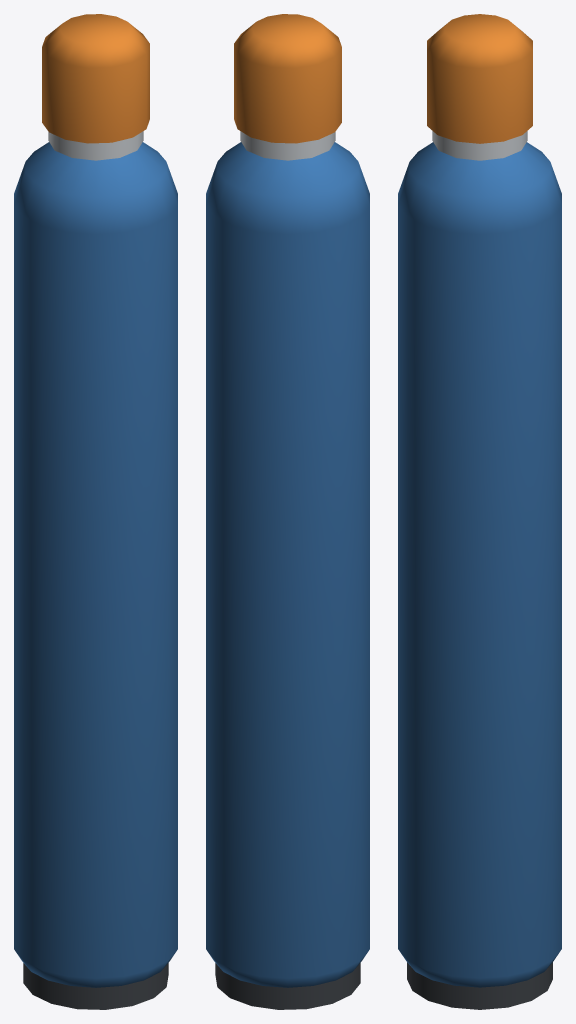
The model's file is SM_GasCylinder_01.glb.
3 views of the same model, side by side, from view 1: azimuth 30°, elevation 25°; view 2: azimuth 150°, elevation 25°; view 3: azimuth 270°, elevation 25° (orthographic).
Visible parts, largest first — view 1: SM_GasCylinder_01; view 2: SM_GasCylinder_01; view 3: SM_GasCylinder_01.
Boxes of the visible parts, box(x1,y1,x2,y2) form: SM_GasCylinder_01: box(14, 14, 177, 1009); SM_GasCylinder_01: box(206, 14, 369, 1009); SM_GasCylinder_01: box(398, 14, 561, 1009).
Bounding box in the file's own units: 0.23 × 1.45 × 0.2265.
1 material, 1 textured.
